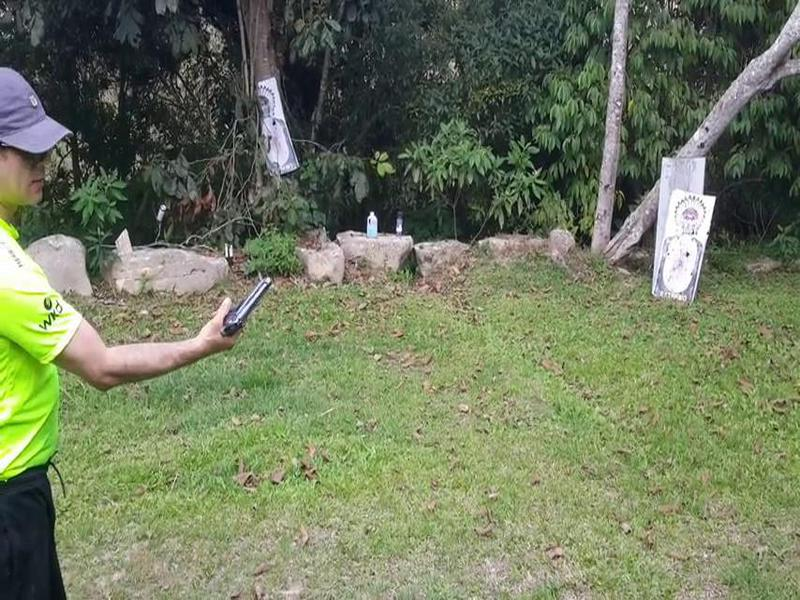Pistola: (217, 275, 276, 344)
